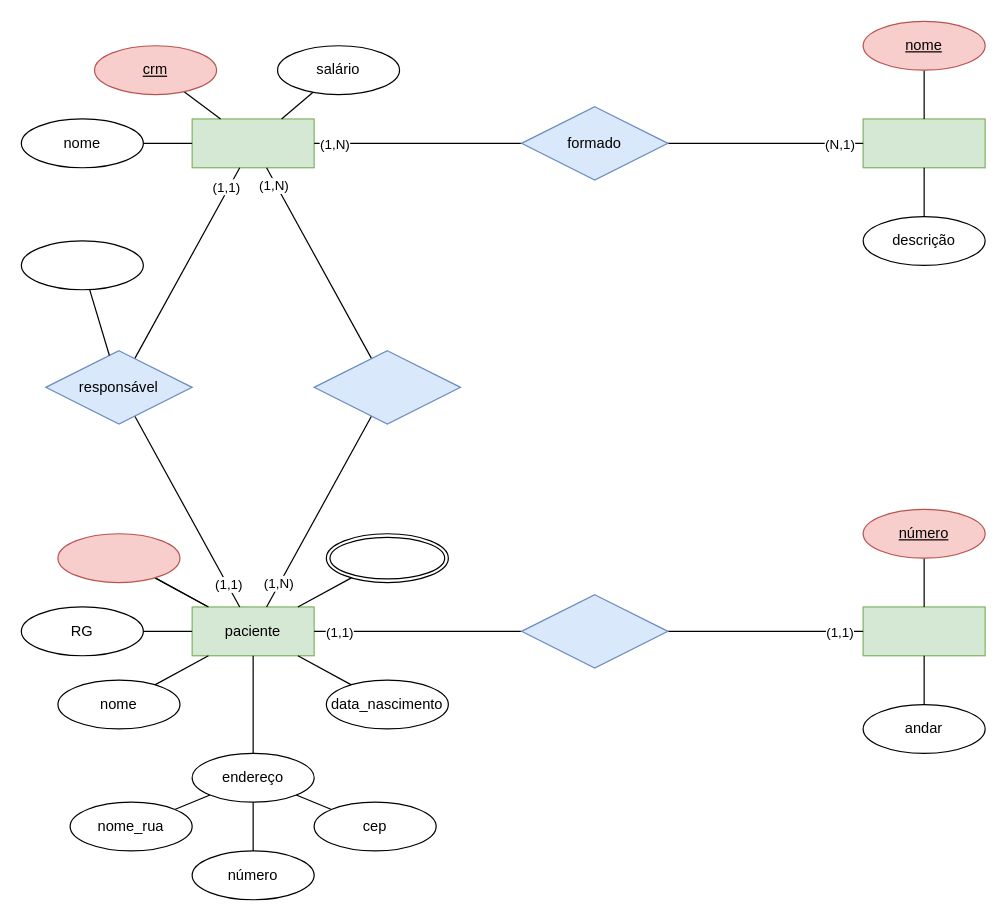
The diagram is 1007 pixels wide and 921 high, and some of its shapes have lost their labels. The shapes that lost their labels are listed below. From the top down, each one's centre as x and y in pixels, then its label:
At (252,143): "médico".
At (923,143): "especialidade".
At (81,265): "horário_visita".
At (387,387): "trata".
At (118,558): "CPF".
At (386,558): "telefone".
At (594,631): "internado".
At (923,631): "quarto".
